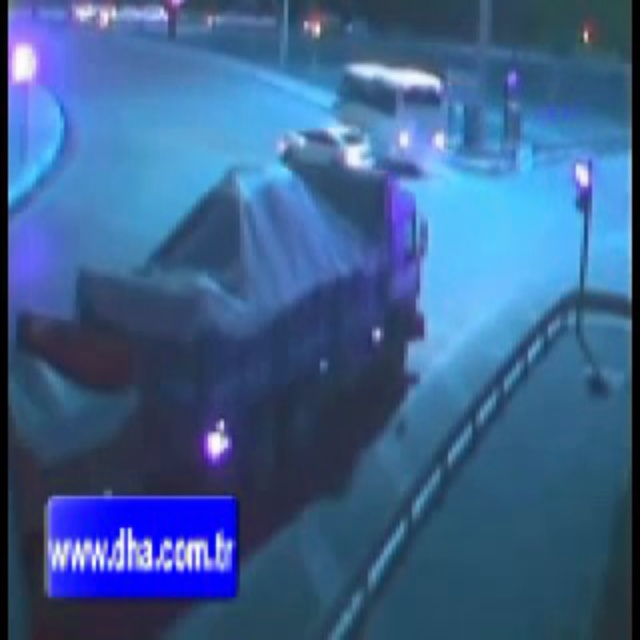acc: (277, 58, 445, 172)
